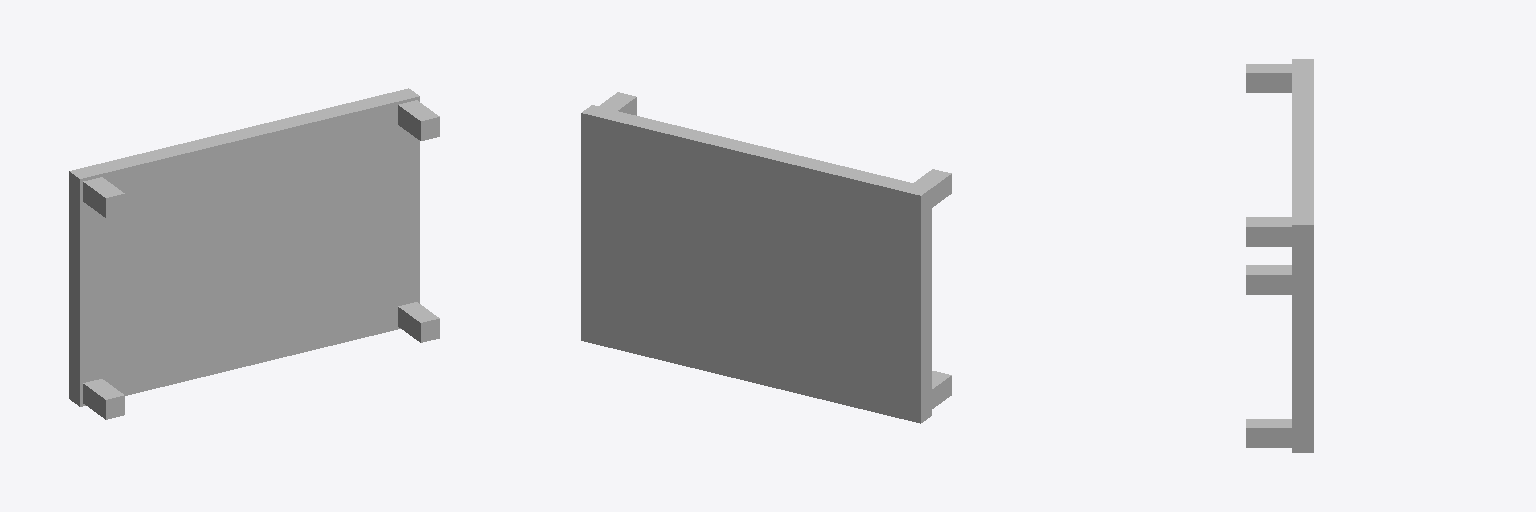
The model's file is random_table45.obj.
3 renders of one model, left to right at view 1: azimuth 30°, elevation 25°; view 2: azimuth 150°, elevation 25°; view 3: azimuth 270°, elevation 25°, orthographic.
Visible parts, largest first — view 1: Table_Cube.420, TableLeg0_Cube.421, TableLeg3_Cube.424, TableLeg2_Cube.423, TableLeg1_Cube.422; view 2: Table_Cube.420, TableLeg1_Cube.422, TableLeg3_Cube.424, TableLeg0_Cube.421; view 3: Table_Cube.420, TableLeg0_Cube.421, TableLeg3_Cube.424, TableLeg1_Cube.422, TableLeg2_Cube.423.
Boxes of the visible parts, box(x1,y1,x2,y2) form: Table_Cube.420: box(69, 88, 419, 406); TableLeg0_Cube.421: box(398, 100, 439, 140); TableLeg3_Cube.424: box(83, 379, 124, 419); TableLeg2_Cube.423: box(398, 302, 439, 342); TableLeg1_Cube.422: box(83, 177, 124, 217); Table_Cube.420: box(581, 105, 931, 423); TableLeg1_Cube.422: box(914, 169, 951, 207); TableLeg3_Cube.424: box(932, 371, 951, 408); TableLeg0_Cube.421: box(599, 92, 636, 115); Table_Cube.420: box(1292, 59, 1313, 452); TableLeg0_Cube.421: box(1246, 217, 1291, 246); TableLeg3_Cube.424: box(1246, 265, 1291, 294); TableLeg1_Cube.422: box(1246, 64, 1291, 92); TableLeg2_Cube.423: box(1246, 419, 1291, 447).
Bounding box in the file's own units: 9.42 × 6.03 × 1.62.